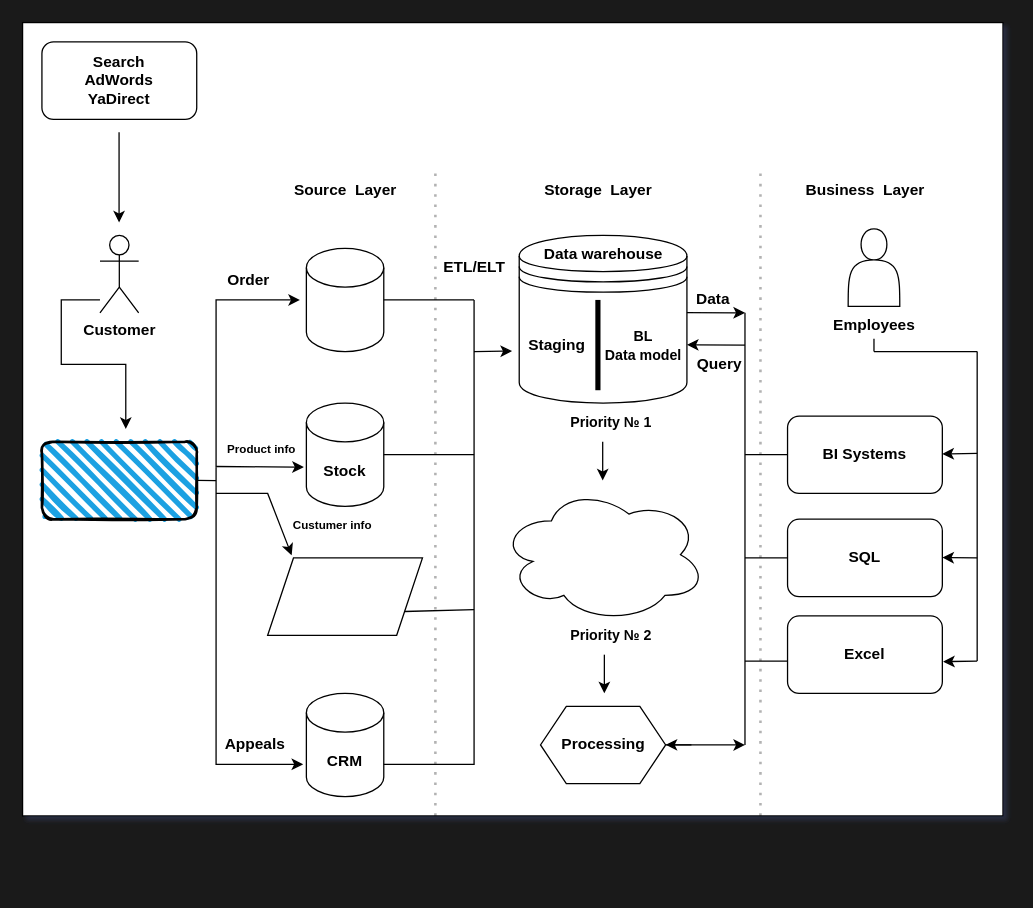
The diagram is 1033 pixels wide and 908 high, and some of its shapes have lost their labels. Here are the shapes that lost their labels. From the top down, the box of each, then its label:
(305, 247, 384, 352): Orders & Clients
(40, 440, 197, 520): OZON.r u
(499, 486, 706, 622): Data Lake
(266, 557, 422, 635): Google Analytics API
